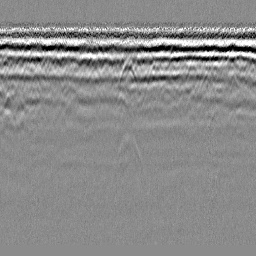cavity: (117, 57, 139, 89)
